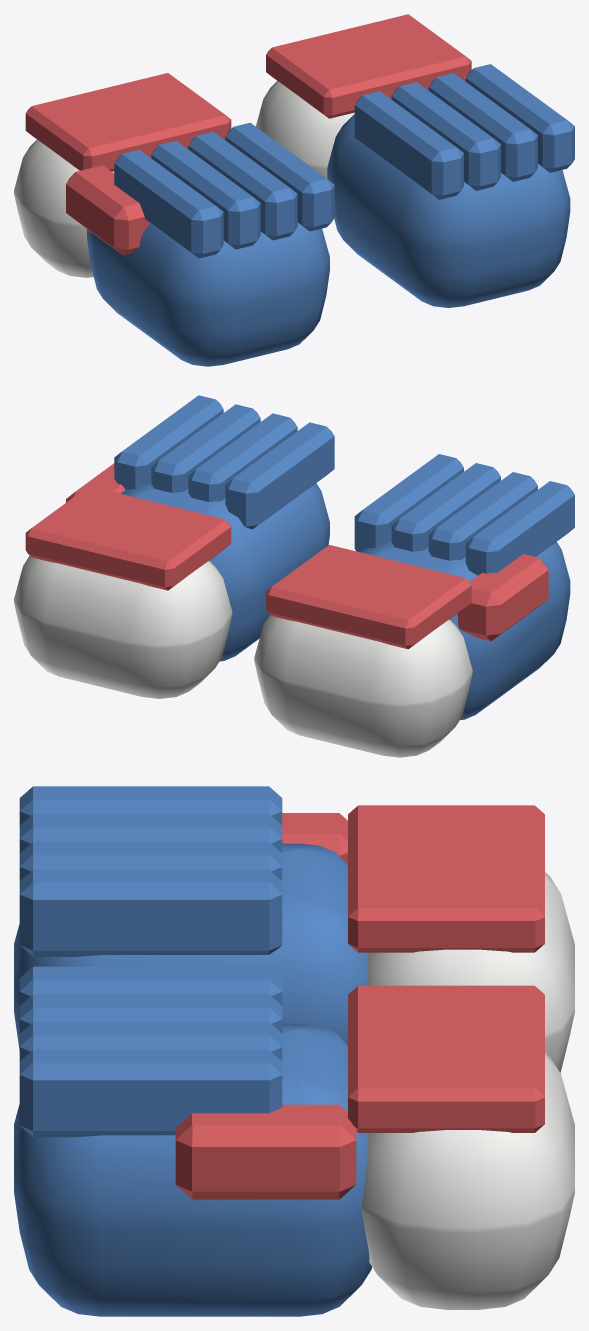
The model's file is ice-hockey-arena-and-locker-room-hockey-gloves-fad8a99c__33724.glb.
3 views of the same model, one above another, from view 1: azimuth 30°, elevation 25°; view 2: azimuth 150°, elevation 25°; view 3: azimuth 270°, elevation 25° (orthographic). The views are drawn at different scales.
Visible parts, largest first — view 1: hockey-gloves; view 2: hockey-gloves; view 3: hockey-gloves.
Part boxes in pixels (x1,y1,x2,y2): hockey-gloves: (14, 14, 574, 366); hockey-gloves: (14, 395, 574, 757); hockey-gloves: (14, 786, 574, 1316).
Size of the model in its own units: 0.47 by 0.18 by 0.3418.
